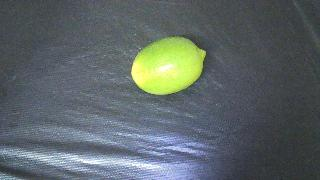LOCAL: (131, 37, 206, 95)
